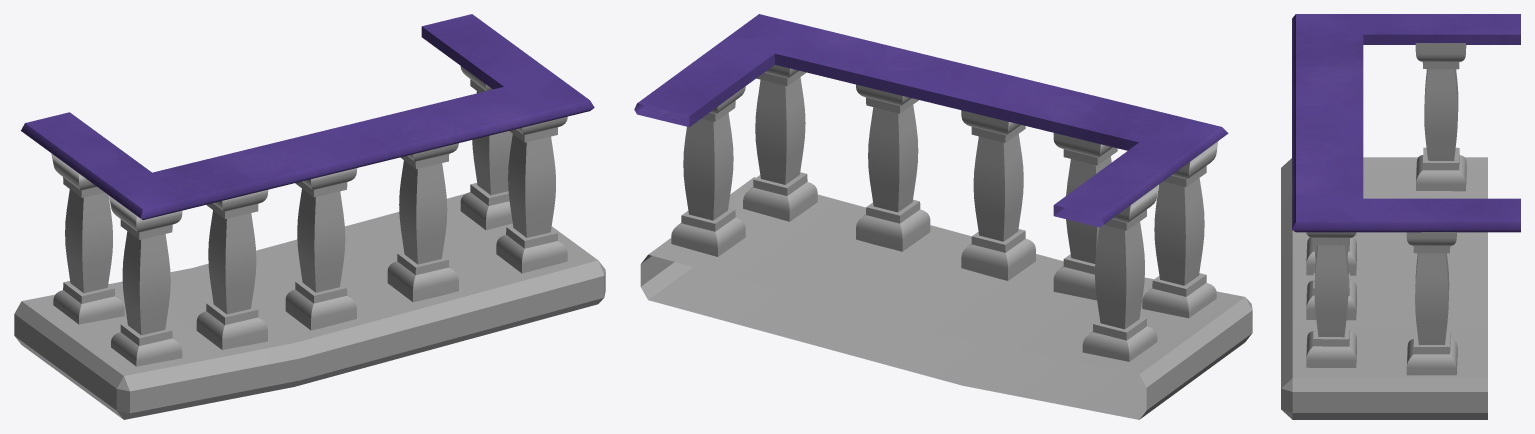
File: balcon.fbx
The picture shows the model from 3 angles, left to right: view 1: azimuth 30°, elevation 25°; view 2: azimuth 150°, elevation 25°; view 3: azimuth 270°, elevation 25°; orthographic projection. The views are drawn at different scales.
Parts seen in each view (by area): view 1: pillier17; view 2: pillier17; view 3: pillier17.
Part boxes in pixels (left/top/right/bottom): pillier17: left=14, top=14, right=605, bottom=419; pillier17: left=634, top=14, right=1252, bottom=419; pillier17: left=1281, top=14, right=1520, bottom=419.
Bounding box in the file's own units: 7.32 × 3.05 × 3.26.
